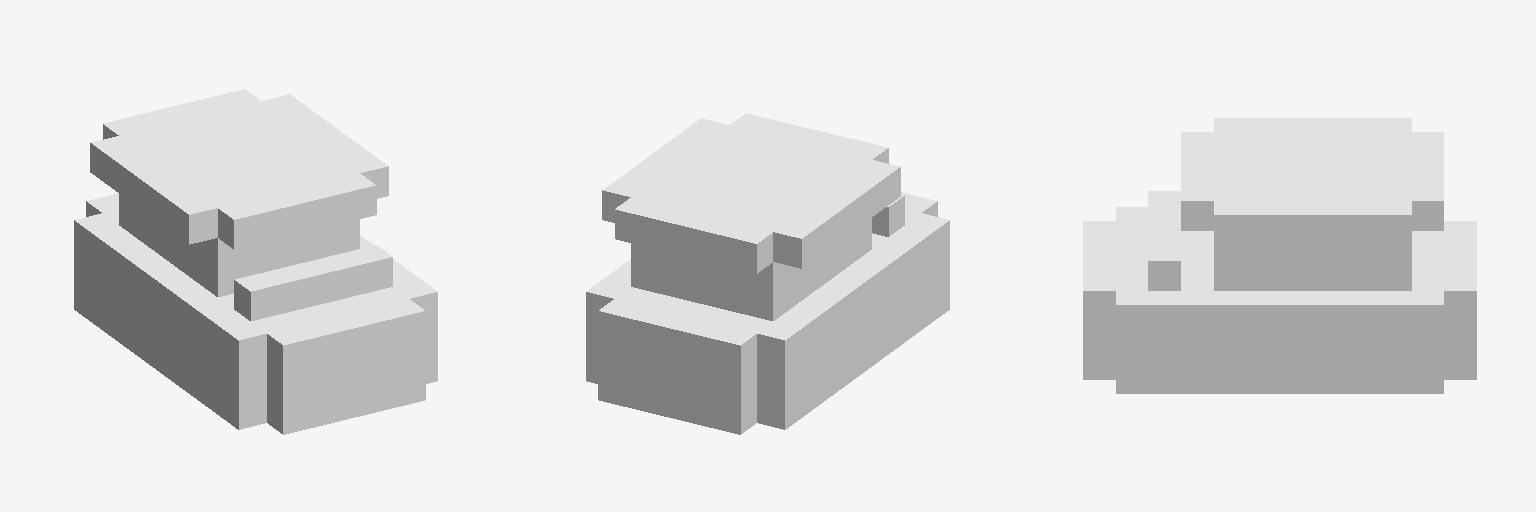
The model's file is smithfoot.obj.
The picture shows the model from 3 angles: view 1: azimuth 30°, elevation 25°; view 2: azimuth 150°, elevation 25°; view 3: azimuth 270°, elevation 25°; orthographic projection.
Parts seen in each view (by area): view 1: SamAsBlacksmith; view 2: SamAsBlacksmith; view 3: SamAsBlacksmith.
Part boxes in pixels (bbox=[...]): SamAsBlacksmith: bbox=[74, 89, 437, 434]; SamAsBlacksmith: bbox=[586, 113, 949, 434]; SamAsBlacksmith: bbox=[1083, 118, 1476, 393].
Bounding box in the file's own units: 7 × 6 × 12.